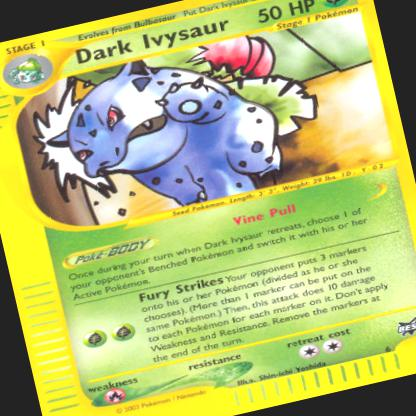Ivysaur: (67, 24, 341, 224)
